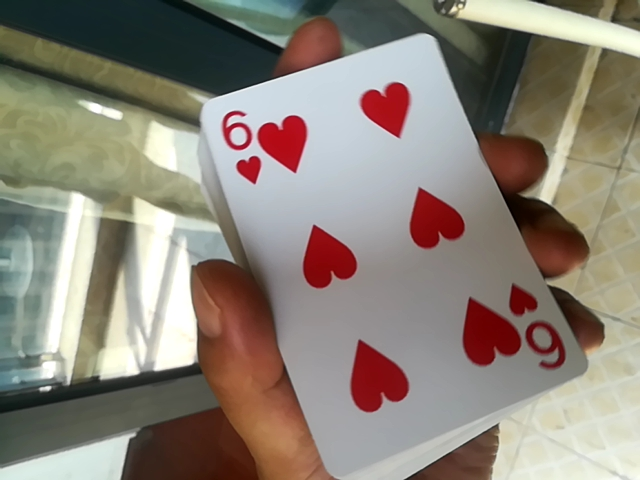hx 6: (186, 39, 588, 465)
